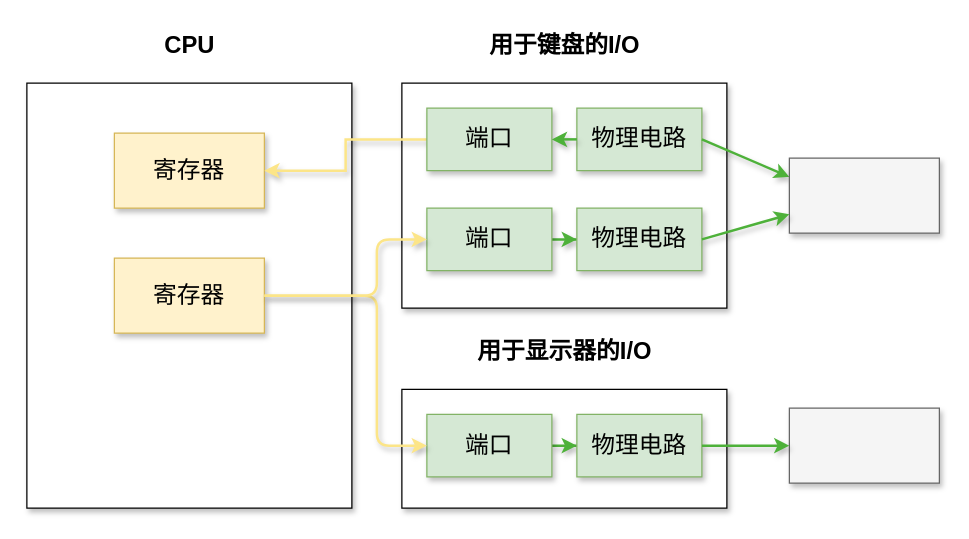
Image size: 969x539. Some labels were removed from this diagram. The shapes that lost their labels are listed below. From the top down, each one's centre as x and y in pixels, then its label:
the point at 865,197: 键盘
the point at 865,447: 显示器
